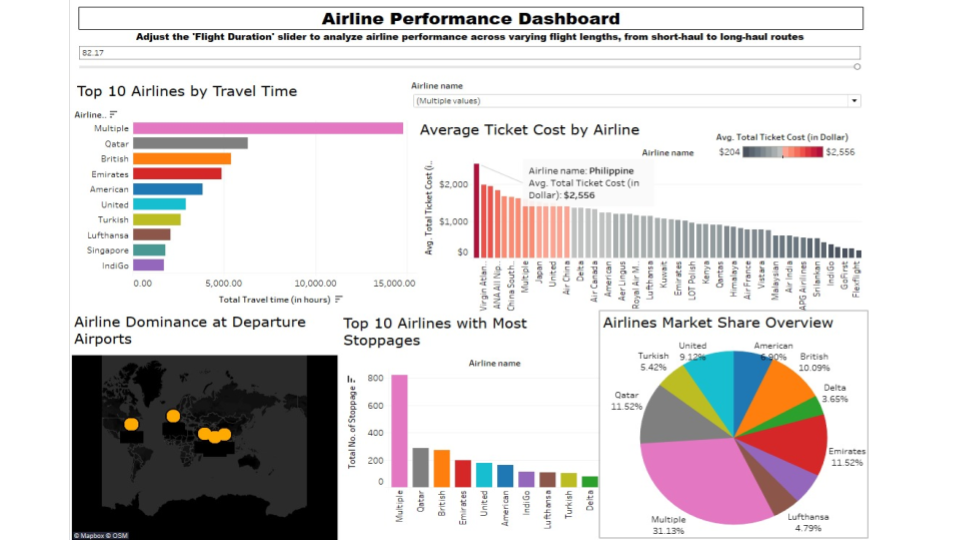

Layout of this report page (visuals, bound fields, positions):
{"tool":"tableau","page":{"name":"Dashboard ","canvas":[1100,800],"ordinal":0},"visuals":[{"type":"title","box":[8,8,1084,42]},{"type":"parameter","param":"[Parameters].[Parameter 1]","box":[10,47,1077,69]},{"type":"worksheet","title":"1.) Top 10 Airlines With Most Travel Time","mark":"Automatic","rows":["Airline name"],"cols":["Travel time in hours"],"box":[6,120,470,340]},{"type":"filter","title":"2.) Average Ticket Cost across different Airlines","param":"[federated.0zykq3q0v7xq5i1gi8qi21lp6ckx].[none:Airline name:nk]","box":[468,120,620,52]},{"type":"worksheet","title":"2.) Average Ticket Cost across different Airlines","mark":"Bar","rows":["Ticket prize(Doller)"],"cols":["Airline name"],"box":[476,177,610,286]},{"type":"legend","title":"2.) Average Ticket Cost across different Airlines","param":"[federated.0zykq3q0v7xq5i1gi8qi21lp6ckx].[avg:Ticket prize(Doller):qk]","box":[886,196,195,53]},{"type":"worksheet","title":"12.) Geographical Map of Departure Airports and its Airline Dominance","mark":"Automatic","box":[2.2,461,366.3,341]},{"type":"worksheet","title":"7.) Top 10 Airlines Performer and Their Market Share","mark":"Pie","box":[726.8,462,366.4,334]},{"type":"worksheet","title":"3.) Top 10 Airlines with Most No. of Stoppages","mark":"Automatic","rows":["Calculation_1144477264302100486"],"cols":["Airline name"],"box":[370.6,463,356.2,339]}]}

Visuals, with their boxes on the page's 1100x800 design canvas (x1, y1, x2, y2). These are canvas units, not pixel positions in the 960x540 screenshot, which may show the page scaled, cropped or inside an application window:
title: box=[8, 8, 1092, 50]
parameter: box=[10, 47, 1087, 116]
"1.) Top 10 Airlines With Most Travel Time" worksheet: box=[6, 120, 476, 460]
"2.) Average Ticket Cost across different Airlines" filter: box=[468, 120, 1088, 172]
"2.) Average Ticket Cost across different Airlines" worksheet (Bar marks): box=[476, 177, 1086, 463]
"2.) Average Ticket Cost across different Airlines" legend: box=[886, 196, 1081, 249]
"12.) Geographical Map of Departure Airports and its Airline Dominance" worksheet: box=[2, 461, 368, 802]
"7.) Top 10 Airlines Performer and Their Market Share" worksheet (Pie marks): box=[727, 462, 1093, 796]
"3.) Top 10 Airlines with Most No. of Stoppages" worksheet: box=[371, 463, 727, 802]
